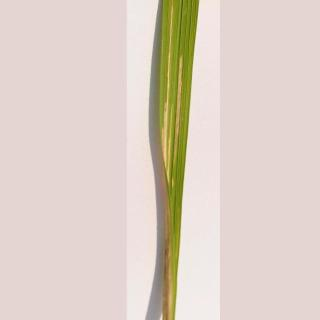Hawar-Daun: (154, 50, 190, 320)
